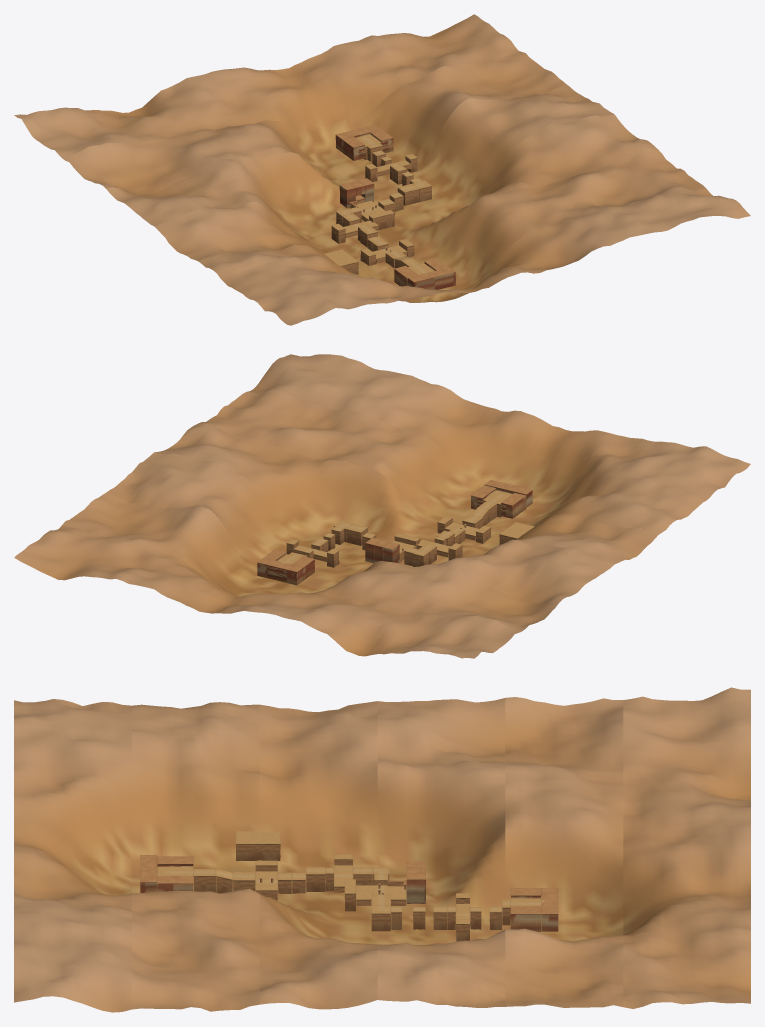
The model's file is mirage_oasis_terrain.glb.
3 renders of one model, top to bottom at view 1: azimuth 30°, elevation 25°; view 2: azimuth 150°, elevation 25°; view 3: azimuth 270°, elevation 25°, orthographic. The views are drawn at different scales.
Parts seen in each view (by area): view 1: backdrop_5, backdrop_3, backdrop_4, backdrop_1, backdrop_2, backdrop_0, terrain_F, terrain_J, terrain_A, terrain_C, terrain_I, terrain_E (+3 smaller); view 2: backdrop_0, backdrop_1, backdrop_5, backdrop_2, backdrop_3, backdrop_4, terrain_F, terrain_A, terrain_J, terrain_C, terrain_B, terrain_I (+2 smaller); view 3: backdrop_5, backdrop_0, backdrop_1, backdrop_3, backdrop_4, backdrop_2, terrain_F, terrain_J, terrain_B, terrain_A, terrain_C, terrain_I (+3 smaller).
Boxes of the visible parts, bbox=[...] form: backdrop_5: bbox=[14, 14, 521, 157]; backdrop_3: bbox=[106, 84, 613, 235]; backdrop_4: bbox=[62, 52, 565, 194]; backdrop_1: bbox=[199, 149, 706, 301]; backdrop_2: bbox=[154, 114, 658, 266]; backdrop_0: bbox=[247, 186, 750, 325]; terrain_F: bbox=[336, 178, 395, 230]; terrain_J: bbox=[335, 125, 393, 161]; terrain_A: bbox=[394, 258, 455, 289]; terrain_C: bbox=[360, 239, 414, 268]; terrain_I: bbox=[365, 150, 417, 181]; terrain_E: bbox=[331, 213, 378, 243]; backdrop_0: bbox=[247, 354, 750, 504]; backdrop_1: bbox=[199, 389, 706, 540]; backdrop_5: bbox=[14, 525, 521, 658]; backdrop_2: bbox=[155, 423, 658, 564]; backdrop_3: bbox=[106, 452, 614, 603]; backdrop_4: bbox=[62, 492, 565, 631]; terrain_F: bbox=[365, 533, 429, 566]; terrain_A: bbox=[471, 480, 532, 518]; terrain_J: bbox=[257, 549, 314, 585]; terrain_C: bbox=[437, 514, 491, 543]; terrain_B: bbox=[471, 501, 534, 544]; terrain_I: bbox=[286, 539, 339, 567]; backdrop_5: bbox=[623, 687, 750, 1008]; backdrop_0: bbox=[14, 699, 131, 1012]; backdrop_1: bbox=[132, 702, 259, 1011]; backdrop_3: bbox=[377, 698, 505, 1007]; backdrop_4: bbox=[505, 697, 623, 1007]; backdrop_2: bbox=[259, 701, 377, 1009]; terrain_F: bbox=[344, 862, 425, 911]; terrain_J: bbox=[502, 888, 558, 931]; terrain_B: bbox=[193, 831, 280, 893]; terrain_A: bbox=[140, 855, 193, 892]; terrain_C: bbox=[233, 860, 291, 900]; terrain_I: bbox=[447, 893, 502, 941].
Size of the model in its own units: 504 by 64.54 by 525.
